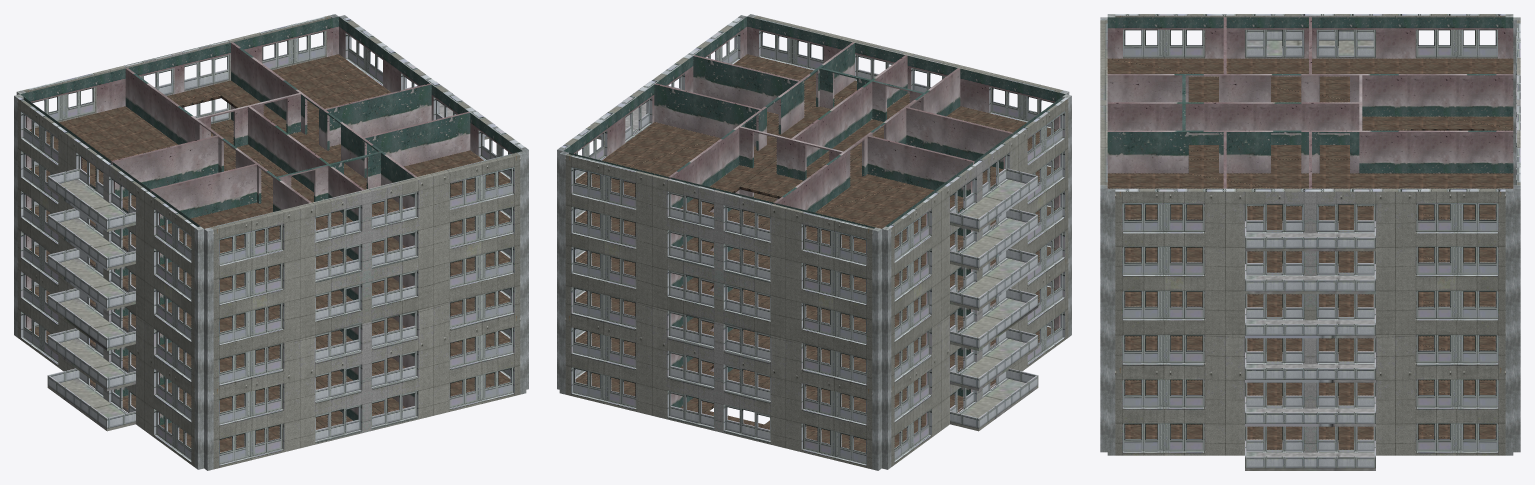
Rendered from BagSS10mid_500.fbx.
3 renders of one model, left to right at view 1: azimuth 30°, elevation 25°; view 2: azimuth 150°, elevation 25°; view 3: azimuth 270°, elevation 25°, orthographic. The views are drawn at different scales.
Parts seen in each view (by area): view 1: midMainB500, midMain500, midWalls500, midFLoor500, midCrete500; view 2: midMain500, midWalls500, midFLoor500, midCrete500, midMainB500; view 3: midMainB500, midWalls500, midFLoor500, midMain500, midCrete500.
Boxes of the visible parts, x1,y1,x2,y2 form: midMainB500: (210,17,524,469); midMain500: (17,15,330,466); midWalls500: (20,16,522,425); midFLoor500: (29,54,510,452); midCrete500: (14,14,528,470); midMain500: (565,97,1068,469); midWalls500: (563,16,1065,424); midFLoor500: (575,54,1056,452); midCrete500: (557,14,1071,470); midMainB500: (561,15,1062,378); midMainB500: (1100,20,1505,470); midWalls500: (1107,17,1513,188); midFLoor500: (1107,58,1513,449); midMain500: (1115,14,1520,185); midCrete500: (1100,14,1520,455).
Bounding box in the file's own units: 51.84 × 30.56 × 44.16.
